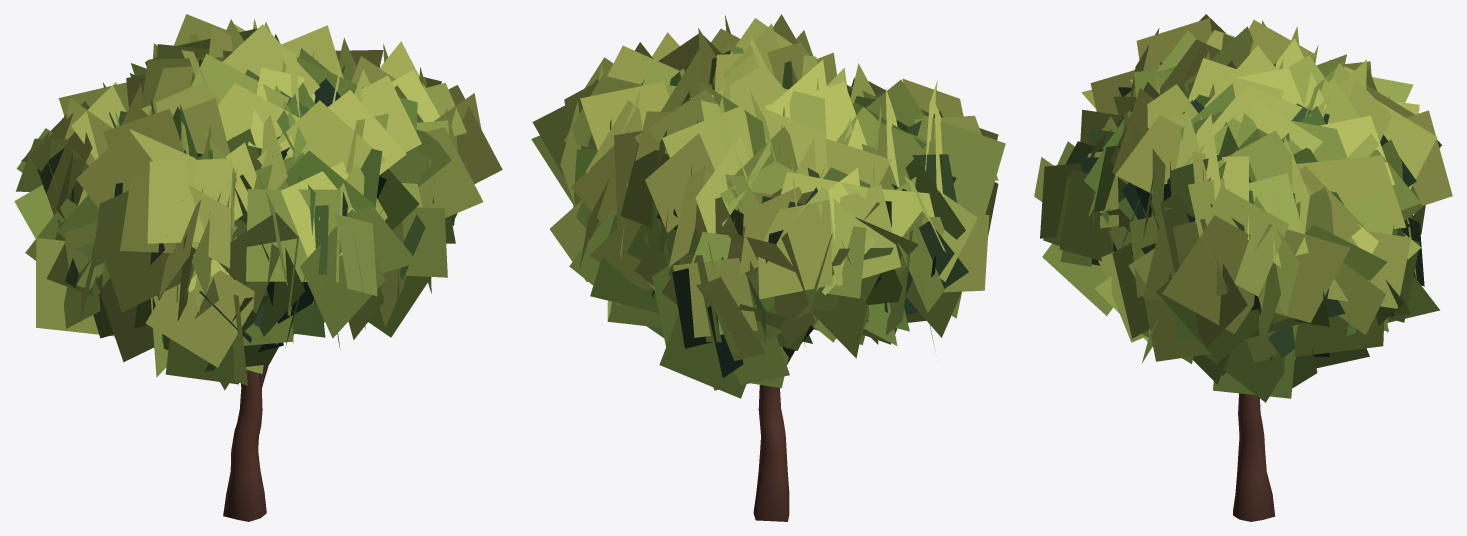
File: BroadleafLarge.fbx
3 views of the same model, side by side, from view 1: azimuth 30°, elevation 25°; view 2: azimuth 150°, elevation 25°; view 3: azimuth 270°, elevation 25° (orthographic).
Parts seen in each view (by area): view 1: BroadleafLarge; view 2: BroadleafLarge; view 3: BroadleafLarge.
Boxes of the visible parts, <box> form: BroadleafLarge: <box>14,14,502,521</box>; BroadleafLarge: <box>531,14,1005,521</box>; BroadleafLarge: <box>1034,14,1452,521</box>.
Size of the model in its own units: 8.77 by 9.52 by 7.54.
